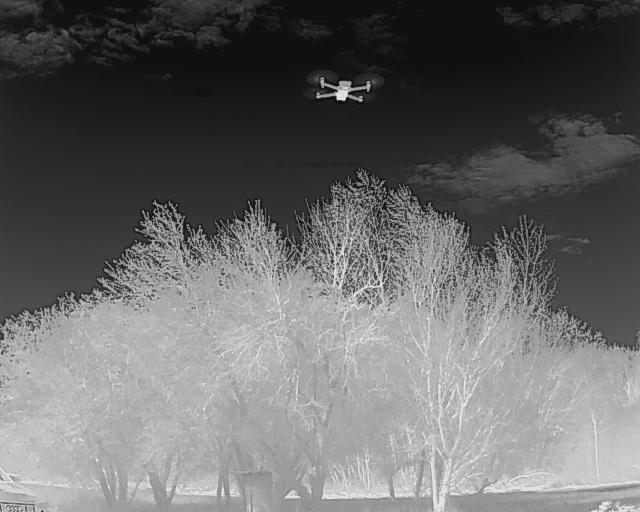drone: (296, 68, 383, 109)
